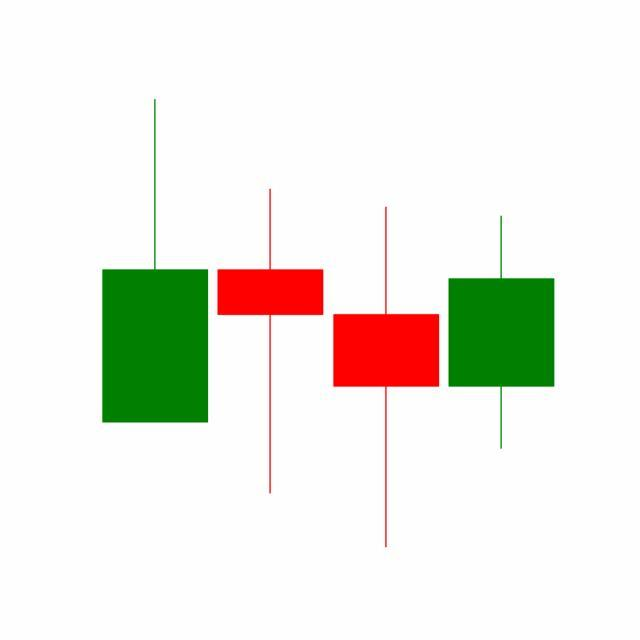Spinning Top: (329, 204, 445, 552)
